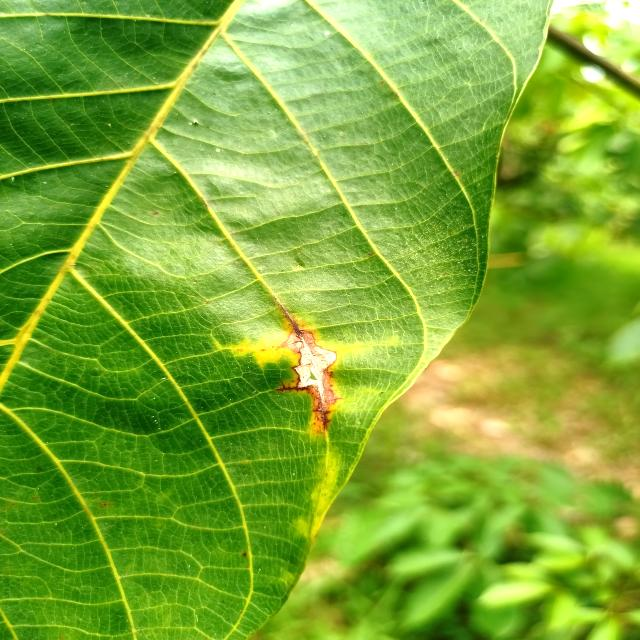Corynespora: (275, 302, 342, 432)
Leaf-Blight: (297, 340, 333, 396)
